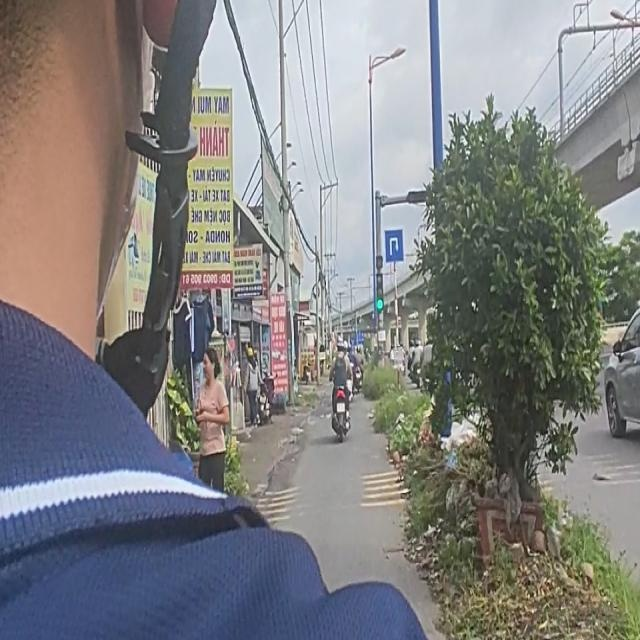I.409: (382, 227, 404, 266)
